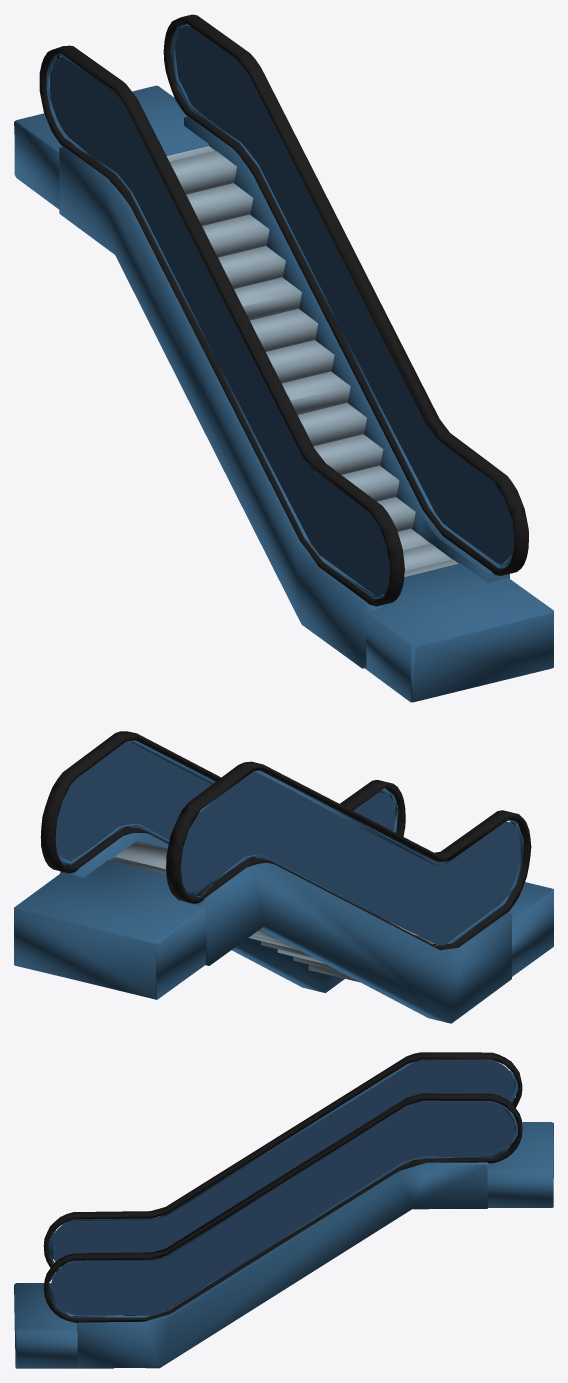
Rendered from escalator.zfix-v14.lod1.glb.
3 renders of one model, top to bottom at view 1: azimuth 30°, elevation 25°; view 2: azimuth 150°, elevation 25°; view 3: azimuth 270°, elevation 25°, orthographic. The views are drawn at different scales.
Visible parts, largest first — view 1: Object_31, Object_10, Object_49; view 2: Object_10, Object_31, Object_49; view 3: Object_31, Object_10, Object_49.
Boxes of the visible parts, x1,y1,x2,y2 form: Object_31: (49,25,514,595); Object_10: (14,24,553,702); Object_49: (39,14,528,606); Object_10: (14,740,553,1023); Object_31: (55,742,520,982); Object_49: (40,731,531,950); Object_31: (50,1059,514,1315); Object_10: (14,1059,553,1368); Object_49: (43,1052,522,1322).
Bounding box in the file's own units: 2.82 × 7.19 × 13.
